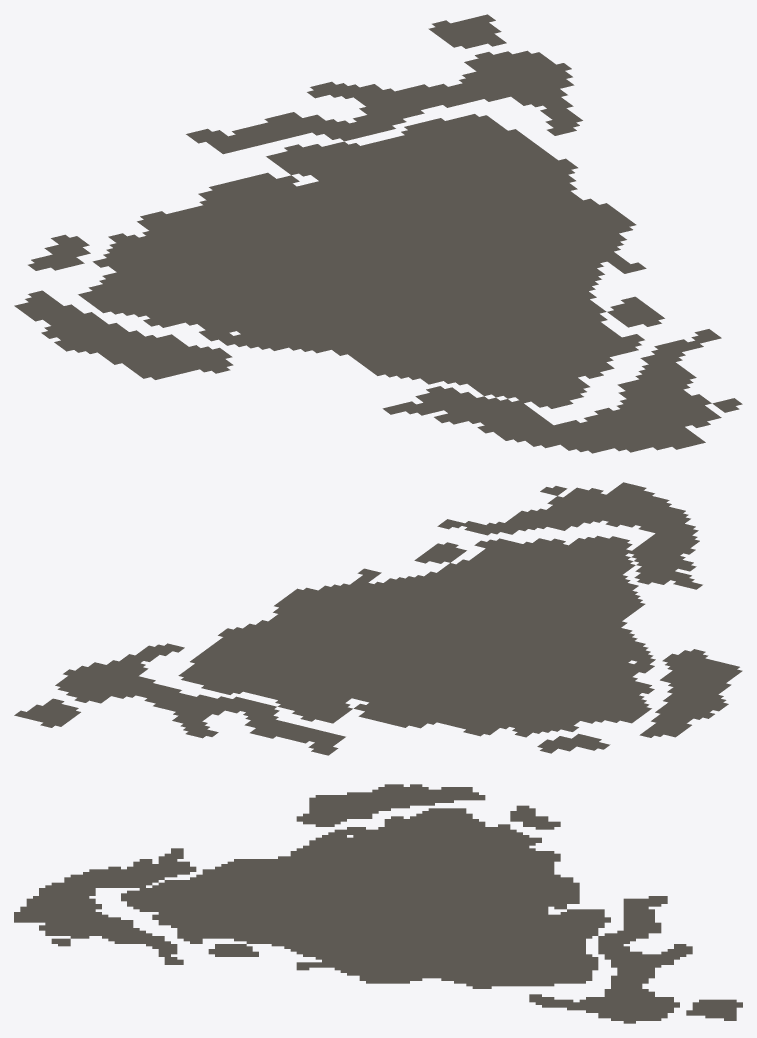
Rendered from Isl-hilly2-NoBuildArea.fbx.
3 renders of one model, top to bottom at view 1: azimuth 30°, elevation 25°; view 2: azimuth 150°, elevation 25°; view 3: azimuth 270°, elevation 25°, orthographic. The views are drawn at different scales.
Parts seen in each view (by area): view 1: Isl-hilly2-NoBuildArea; view 2: Isl-hilly2-NoBuildArea; view 3: Isl-hilly2-NoBuildArea.
Boxes of the visible parts, x1,y1,x2,y2 form: Isl-hilly2-NoBuildArea: (14, 14, 742, 453); Isl-hilly2-NoBuildArea: (14, 482, 742, 755); Isl-hilly2-NoBuildArea: (14, 784, 742, 1023).
Bounding box in the file's own units: 90 × 0 × 116.
